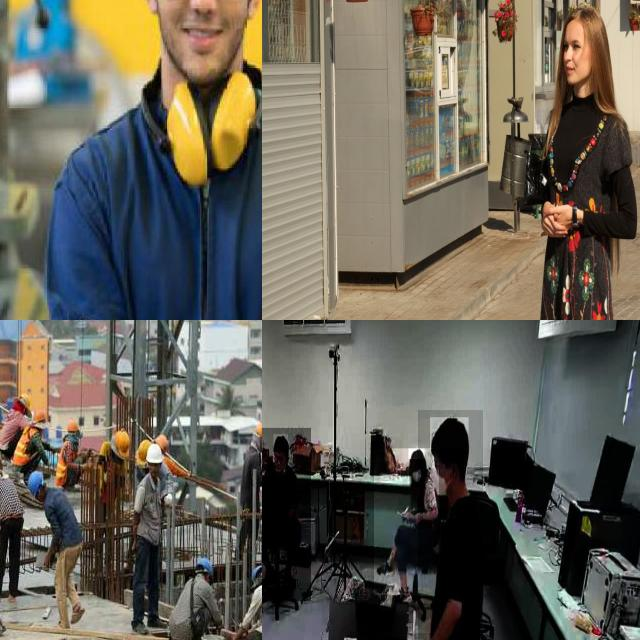Ear-protection: (137, 41, 262, 195)
boots: (148, 616, 167, 628), (132, 623, 148, 634)
face_mask: (432, 454, 450, 507), (410, 459, 422, 487)
face_nomask: (273, 452, 287, 472)
hand_noglove: (408, 510, 424, 524)
head_helmet: (116, 428, 130, 459), (28, 470, 42, 500), (146, 443, 164, 466), (197, 556, 216, 572), (32, 408, 46, 426), (66, 419, 79, 434), (256, 420, 262, 443)
head_nohelmet: (136, 0, 262, 88), (430, 417, 469, 450), (274, 434, 288, 451), (409, 448, 425, 460)
person: (30, 0, 262, 320), (418, 410, 483, 640), (374, 448, 439, 596), (262, 428, 311, 602), (133, 448, 170, 636), (0, 454, 28, 606)
vest: (12, 425, 38, 465), (56, 438, 72, 488)
